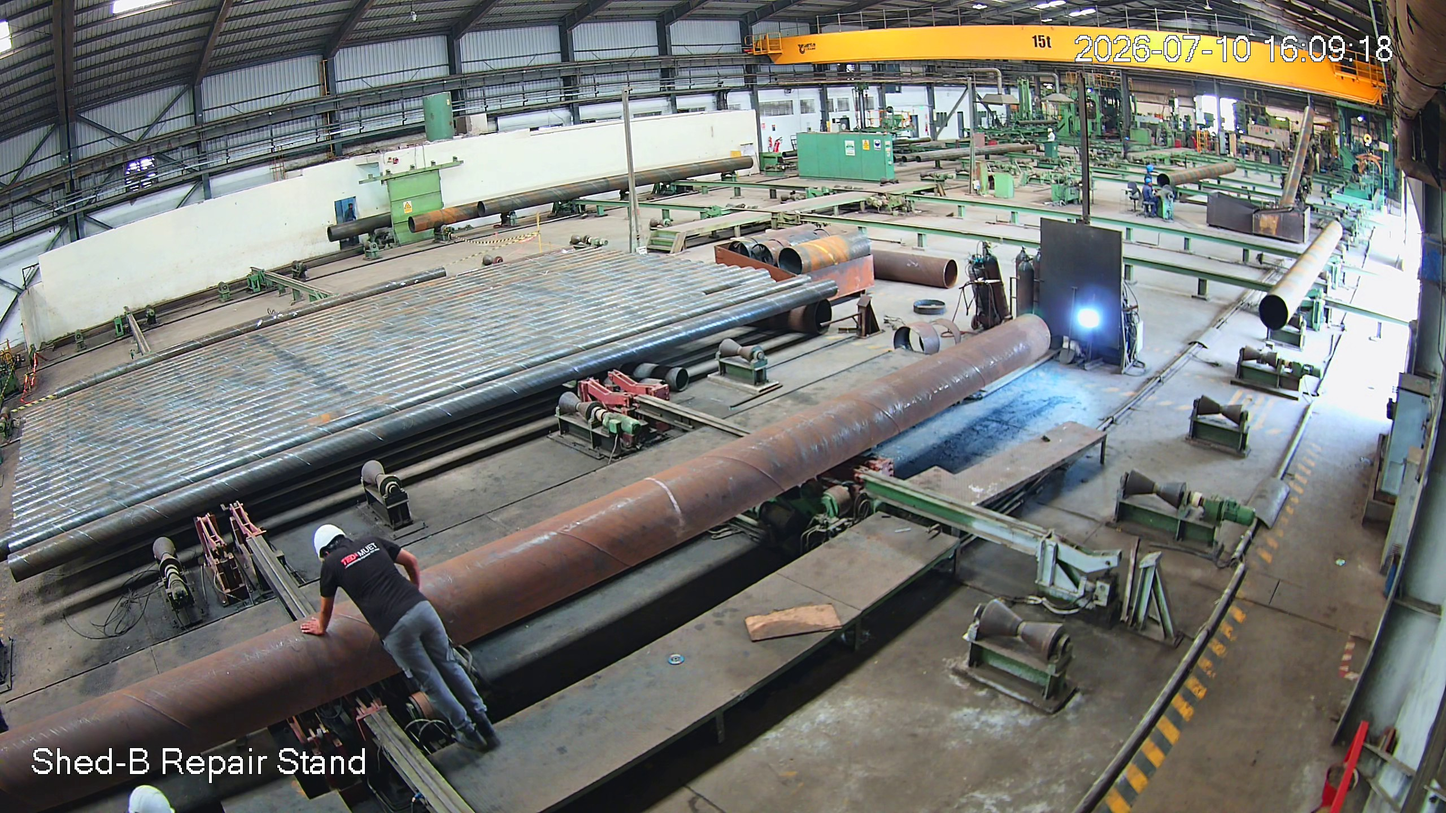Helmet: (307, 515, 375, 574)
Person: (305, 525, 517, 788)
